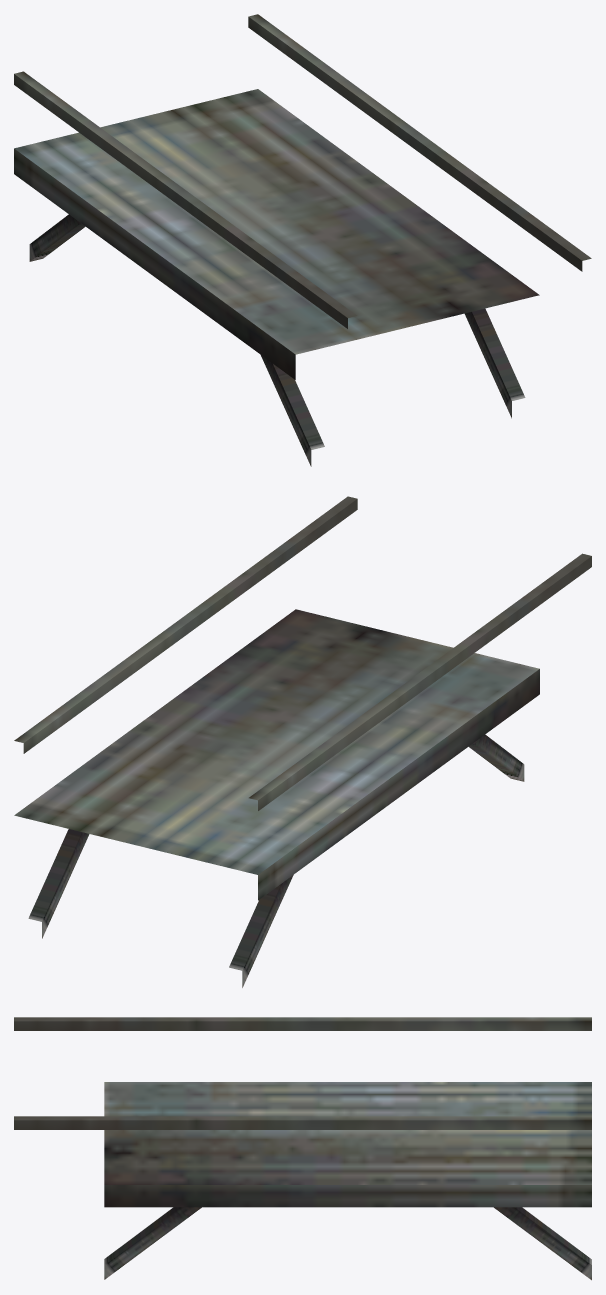
Rendered from M2Zone1_SmallBridge.glb.
3 views of the same model, one above another, from view 1: azimuth 30°, elevation 25°; view 2: azimuth 150°, elevation 25°; view 3: azimuth 270°, elevation 25° (orthographic). The views are drawn at different scales.
Parts seen in each view (by area): view 1: M2ZONE1_SMALLBRIDGE; view 2: M2ZONE1_SMALLBRIDGE; view 3: M2ZONE1_SMALLBRIDGE.
Boxes of the visible parts, x1,y1,x2,y2 form: M2ZONE1_SMALLBRIDGE: (14, 14, 591, 466); M2ZONE1_SMALLBRIDGE: (14, 496, 591, 987); M2ZONE1_SMALLBRIDGE: (14, 1017, 591, 1280).
Size of the model in its own units: 4 by 3.01 by 9.48.
1 material, 1 textured.
